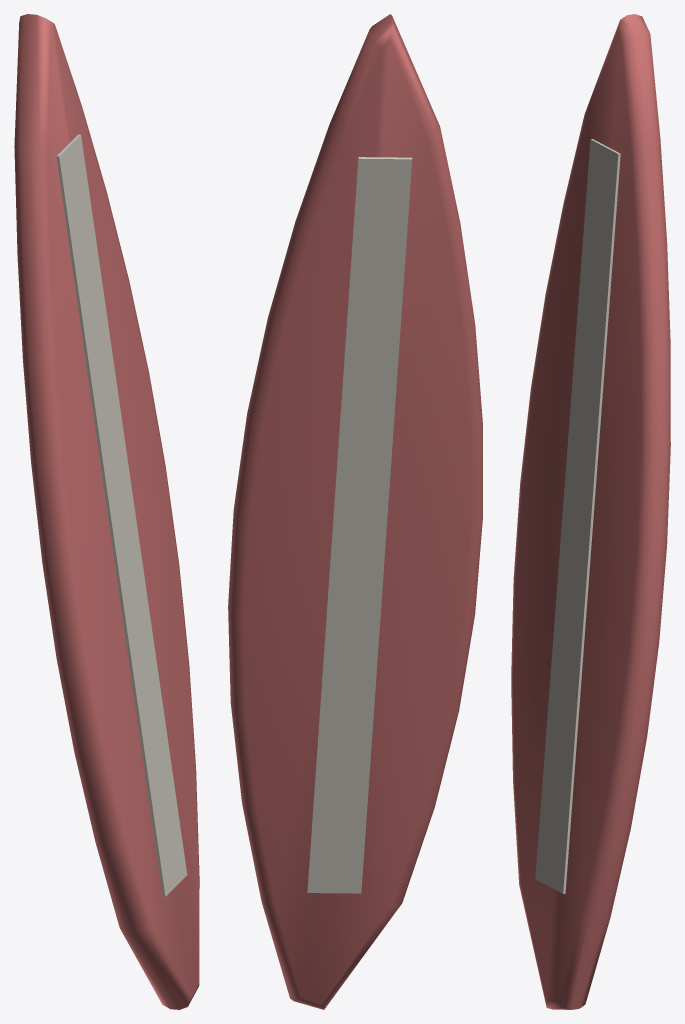
The model's file is surfboard-c.glb.
The picture shows the model from 3 angles, left to right: view 1: azimuth 30°, elevation 25°; view 2: azimuth 150°, elevation 25°; view 3: azimuth 270°, elevation 25°; orthographic projection. The views are drawn at different scales.
Visible parts, largest first — view 1: surfboard-c; view 2: surfboard-c; view 3: surfboard-c.
Boxes of the visible parts, box(x1,y1,x2,y2) form: surfboard-c: box(14, 14, 199, 1009); surfboard-c: box(228, 14, 482, 1009); surfboard-c: box(511, 14, 670, 1009).
Size of the model in its own units: 0.4419 by 2.13 by 0.3261.
